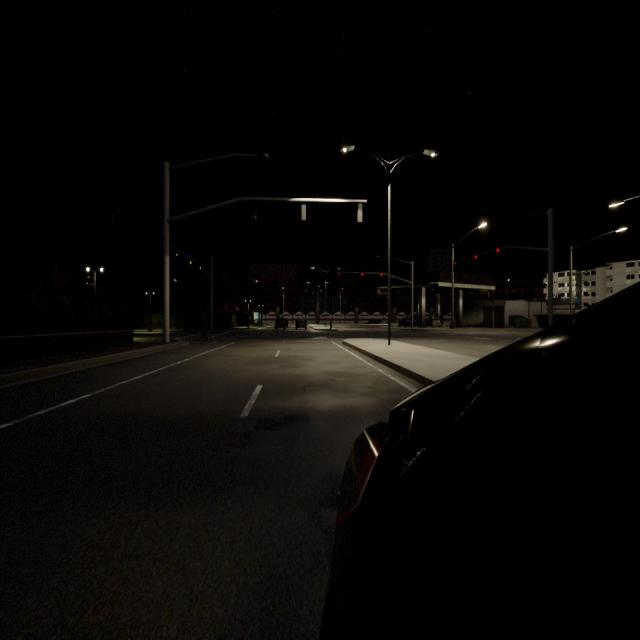Pedestrian: (330, 318, 332, 332)
Vehicle: (334, 287, 640, 637), (399, 316, 416, 326), (275, 317, 287, 331), (295, 318, 307, 329), (432, 316, 441, 326), (368, 318, 382, 324)
traffic_light: (357, 204, 362, 222), (301, 202, 306, 219), (496, 248, 500, 253), (474, 256, 478, 260), (361, 272, 364, 277), (338, 272, 341, 276), (380, 272, 383, 276), (175, 252, 178, 256), (454, 262, 456, 266), (190, 260, 192, 264), (199, 266, 201, 270)
